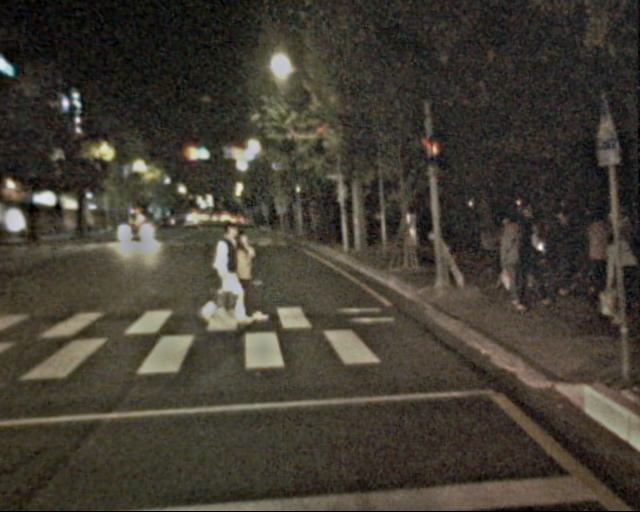person: (508, 210, 551, 315), (201, 224, 242, 325), (596, 231, 637, 330), (217, 226, 258, 325), (549, 209, 584, 294), (583, 214, 617, 298), (495, 218, 526, 294)
